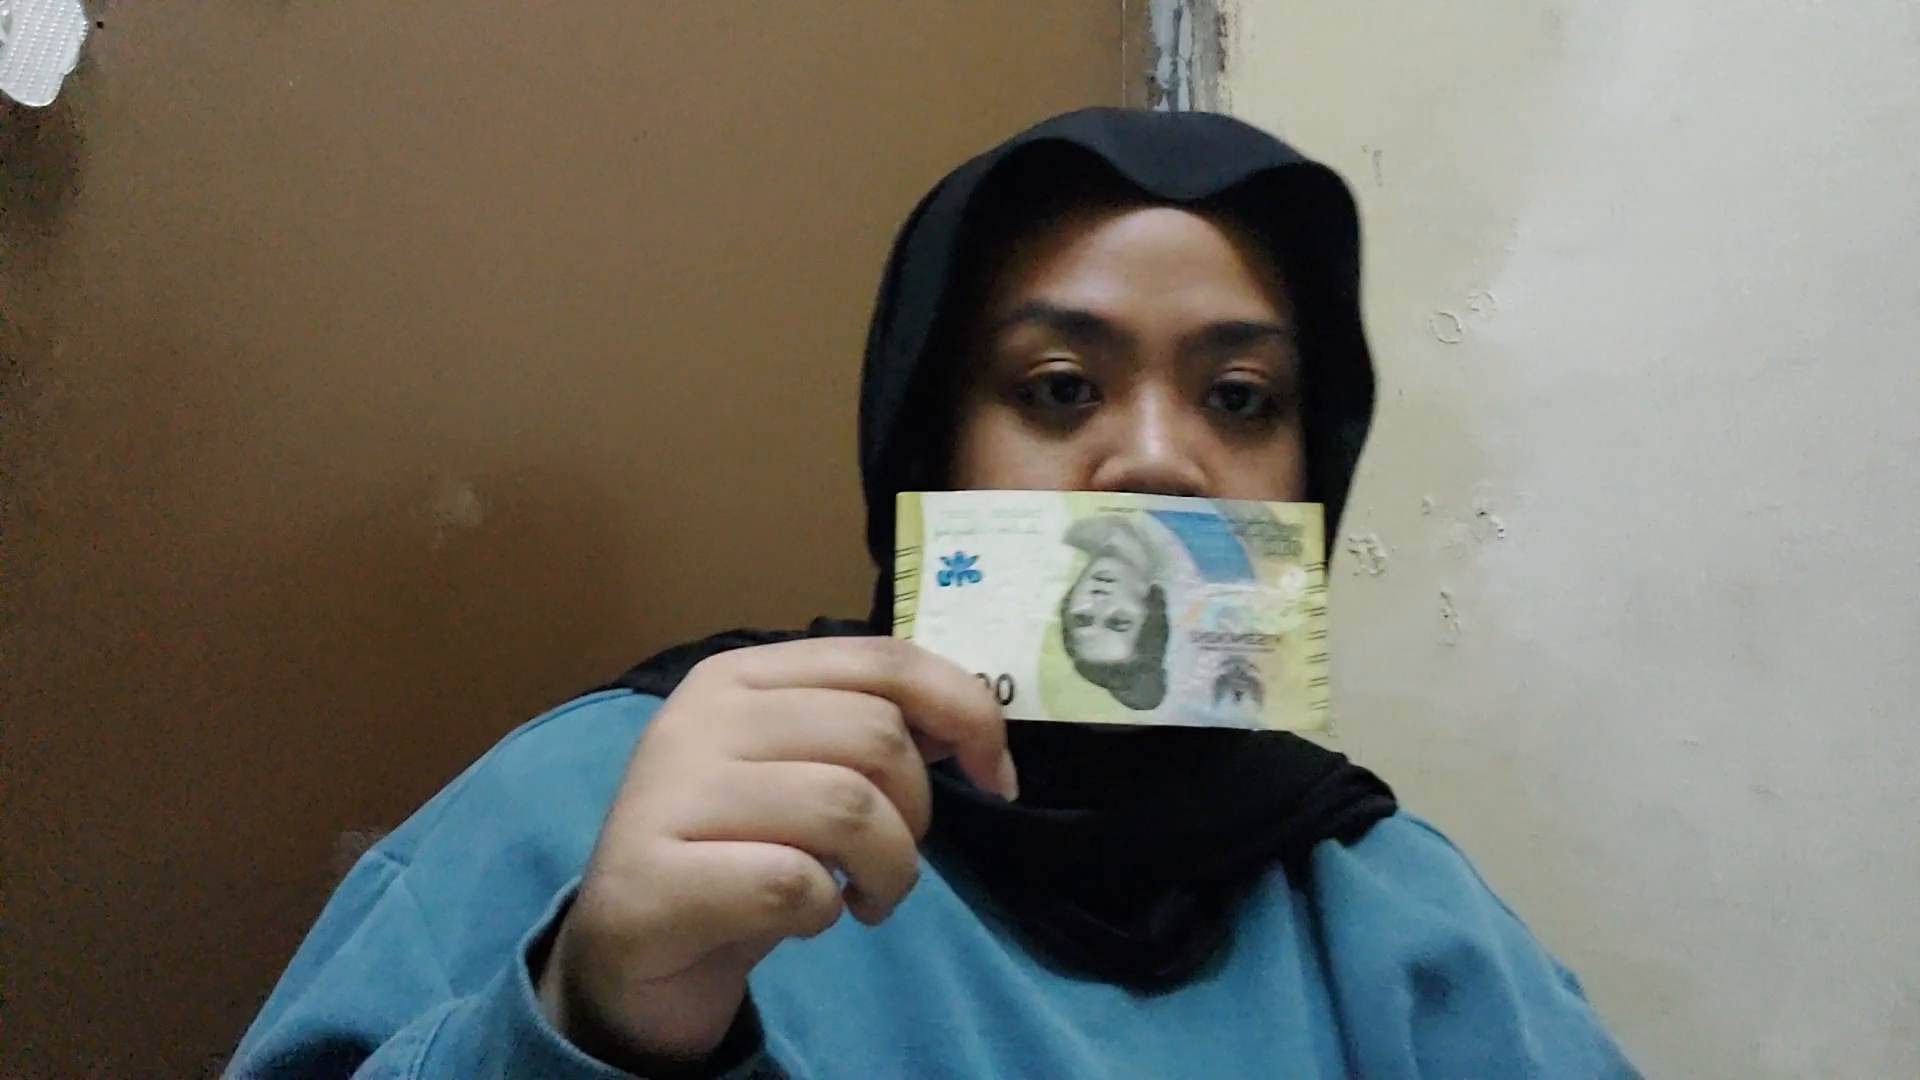1k: (885, 485, 1333, 721)
